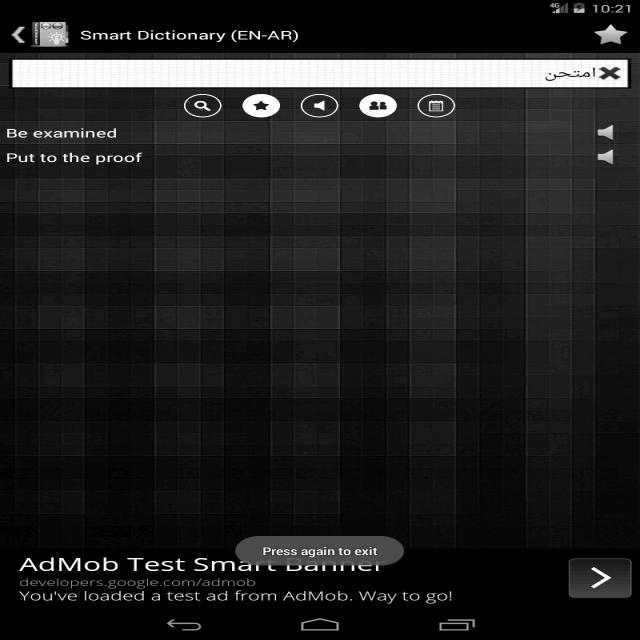Button: (555, 555, 638, 603)
ImageButton: (172, 91, 226, 117), (239, 92, 284, 120), (414, 93, 461, 119), (298, 92, 344, 118), (352, 92, 398, 118), (589, 25, 632, 49), (589, 119, 625, 141), (6, 25, 30, 45)
TextView: (21, 553, 468, 609), (11, 126, 147, 168), (80, 27, 306, 49), (540, 62, 589, 83)
